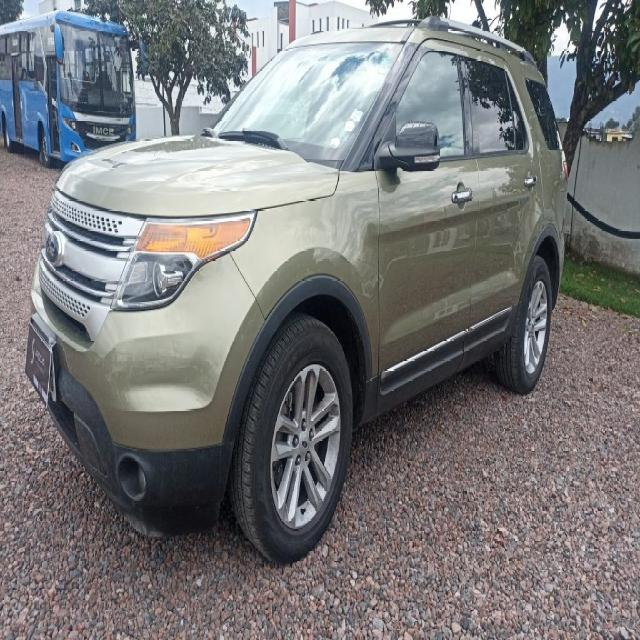BUS: (0, 8, 133, 162)
SUV: (22, 18, 568, 566)
